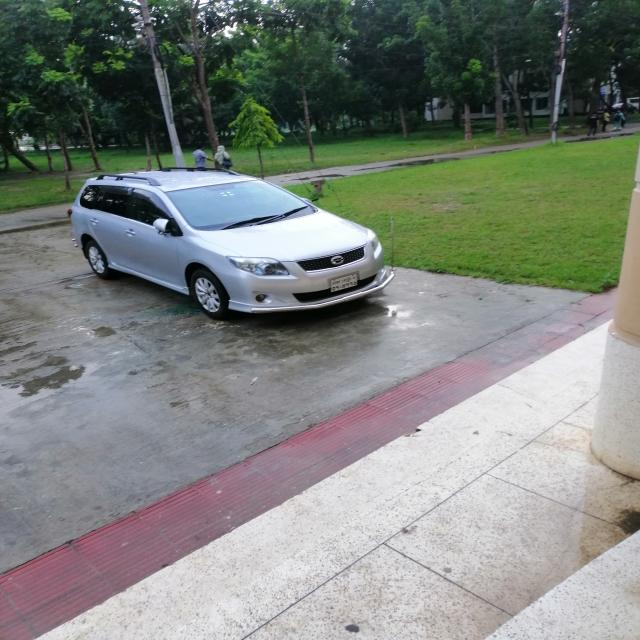Car: (65, 161, 401, 318)
